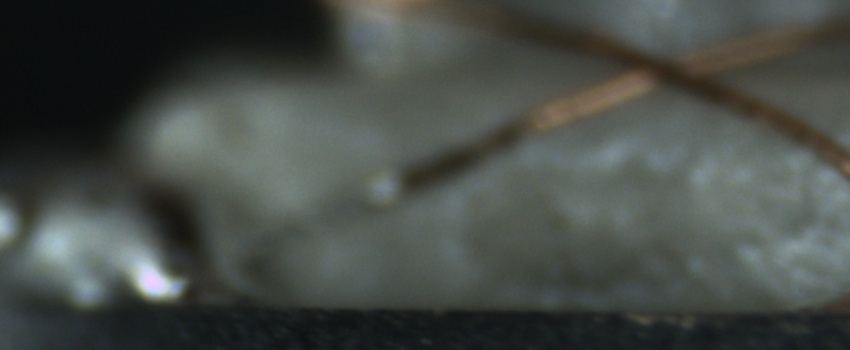DL: (410, 119, 849, 183)
